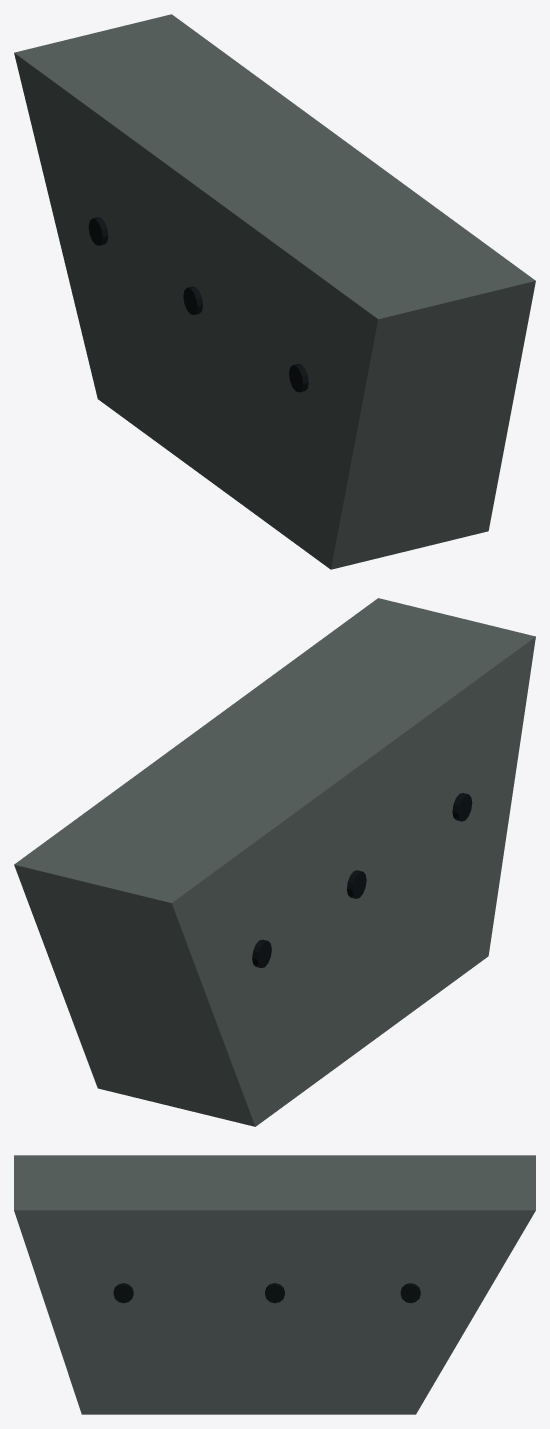
File: PylonHeavy__Pylon.obj
3 renders of one model, top to bottom at view 1: azimuth 30°, elevation 25°; view 2: azimuth 150°, elevation 25°; view 3: azimuth 270°, elevation 25°, orthographic. The views are drawn at different scales.
Parts seen in each view (by area): view 1: Tapered_pylon_casting; view 2: Tapered_pylon_casting; view 3: Tapered_pylon_casting, Pylon_fitting_bolt.003, Pylon_fitting_bolt.005, Pylon_fitting_bolt.004.
Boxes of the visible parts, box(x1,y1,x2,y2) form: Tapered_pylon_casting: box(14, 14, 535, 569); Tapered_pylon_casting: box(14, 598, 535, 1126); Tapered_pylon_casting: box(14, 1155, 535, 1414); Pylon_fitting_bolt.003: box(113, 1283, 133, 1303); Pylon_fitting_bolt.005: box(400, 1283, 420, 1303); Pylon_fitting_bolt.004: box(265, 1283, 284, 1303).
Bounding box in the file's own units: 0.236 × 0.38 × 0.88.
